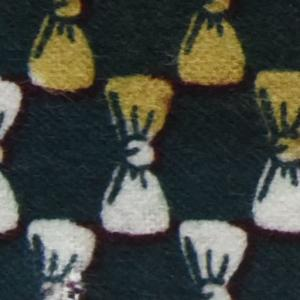Stain: (18, 1, 300, 171)
